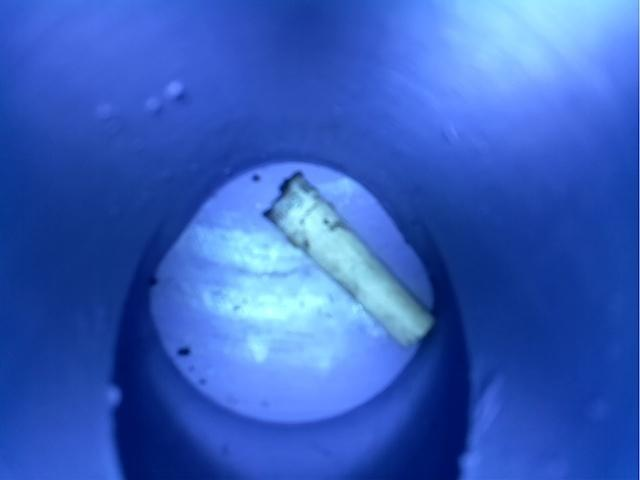megot: (251, 168, 441, 352)
